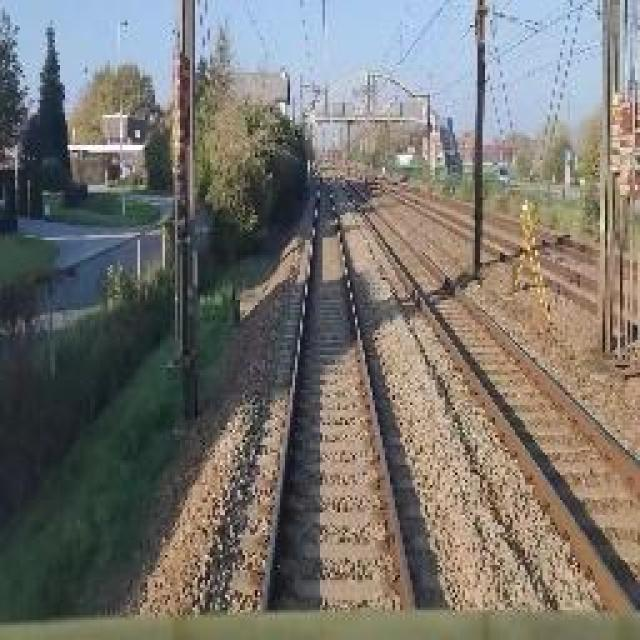rail: (321, 164, 640, 614), (222, 166, 452, 611), (367, 175, 640, 355)
